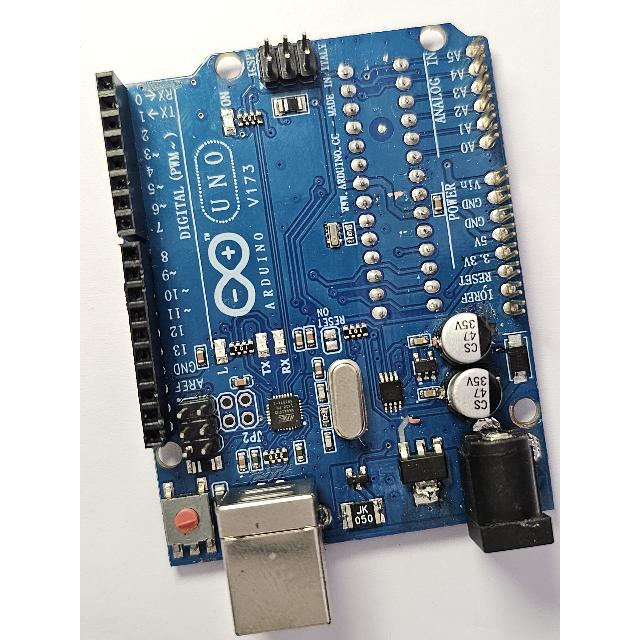missing_analog_pins: (461, 28, 537, 323)
missing_atmega: (331, 47, 450, 326)
